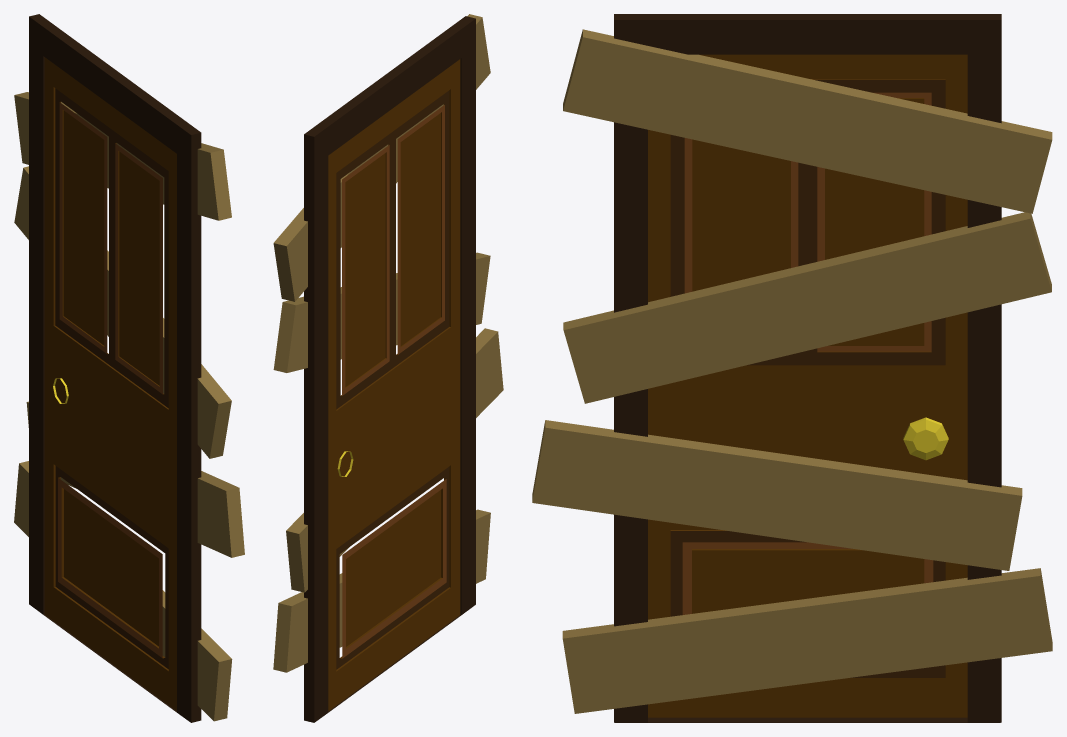
The model's file is locked_door.glb.
3 renders of one model, left to right at view 1: azimuth 30°, elevation 25°; view 2: azimuth 150°, elevation 25°; view 3: azimuth 270°, elevation 25°, orthographic. The views are drawn at different scales.
Visible parts, largest first — view 1: Cube.001, Cube, Cube.003; view 2: Cube.001, Cube, Cube.003; view 3: Cube.003, Cube.001, Cube.
Boxes of the visible parts, box(x1,y1,x2,y2) form: Cube.001: box(44, 57, 176, 710); Cube: box(29, 14, 201, 722); Cube.003: box(14, 92, 244, 721); Cube.001: box(328, 59, 460, 710); Cube: box(304, 16, 475, 722); Cube.003: box(273, 14, 503, 672); Cube.003: box(532, 29, 1052, 713); Cube.001: box(648, 54, 967, 717); Cube: box(614, 14, 1001, 722).
Size of the model in its own units: 0.0727 by 2 by 1.34.
